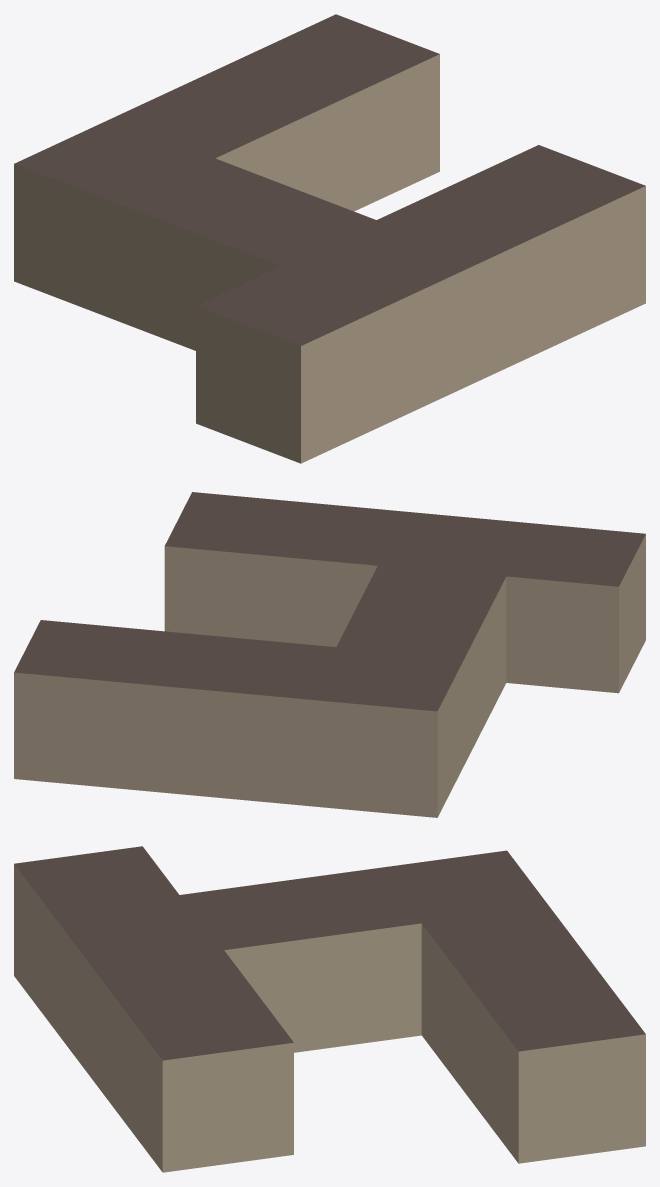
3 views of the same model, one above another, from view 1: azimuth 30°, elevation 25°; view 2: azimuth 150°, elevation 25°; view 3: azimuth 270°, elevation 25° (orthographic). The views are drawn at different scales.
Parts seen in each view (by area): view 1: HP-w299225191; view 2: HP-w299225191; view 3: HP-w299225191.
Part boxes in pixels (x1,y1,x2,y2): HP-w299225191: [14, 14, 645, 463]; HP-w299225191: [14, 492, 645, 817]; HP-w299225191: [14, 846, 645, 1172].
Bounding box in the file's own units: 36.89 × 9 × 45.97.
